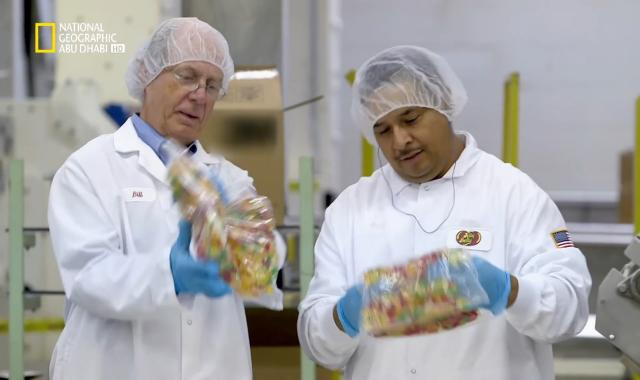hairnet: (351, 47, 459, 125), (128, 18, 237, 91)
